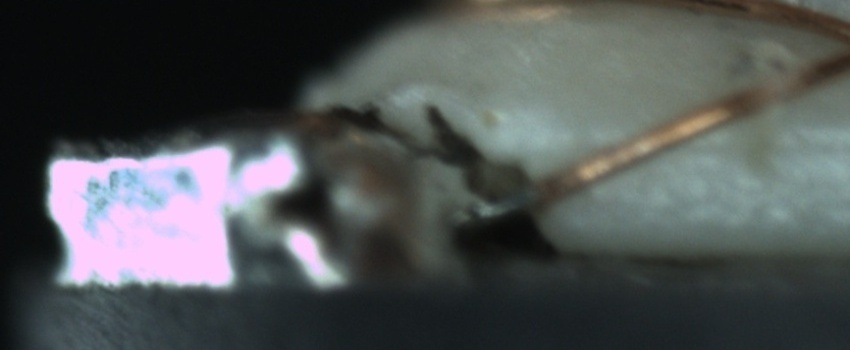DL: (629, 107, 850, 184)
TS: (466, 179, 540, 226)
